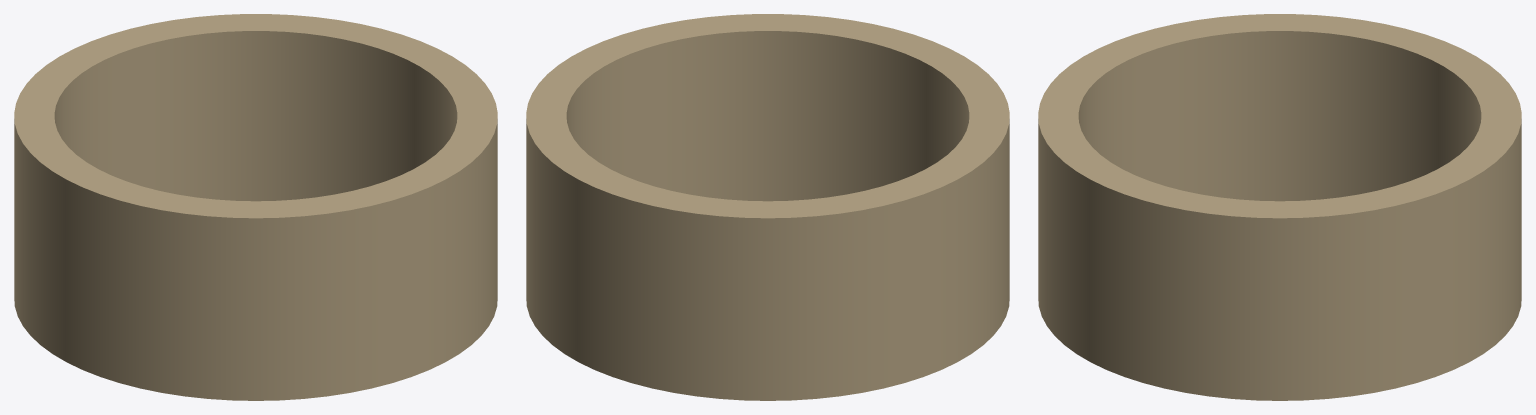
File: step_01.glb
3 renders of one model, left to right at view 1: azimuth 30°, elevation 25°; view 2: azimuth 150°, elevation 25°; view 3: azimuth 270°, elevation 25°, orthographic.
Visible parts, largest first — view 1: part__collar bush; view 2: part__collar bush; view 3: part__collar bush.
Boxes of the visible parts, bbox=[...] form: part__collar bush: bbox=[14, 14, 497, 400]; part__collar bush: bbox=[526, 14, 1009, 400]; part__collar bush: bbox=[1038, 14, 1521, 400].
Size of the model in its own units: 240 by 100 by 240.
